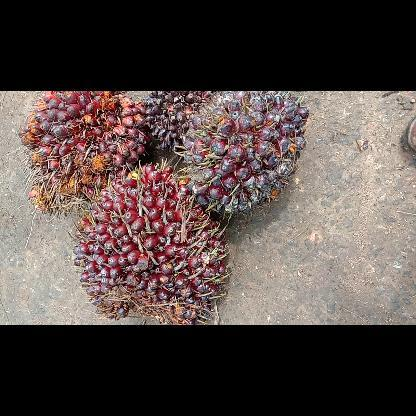Kurang masak: (70, 164, 232, 324), (180, 91, 310, 219)
TBS abnormal: (141, 92, 213, 152)
TBS masak: (19, 91, 151, 219)
